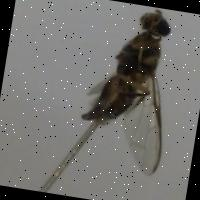Oriental-fruit-fly: (63, 0, 197, 186)
